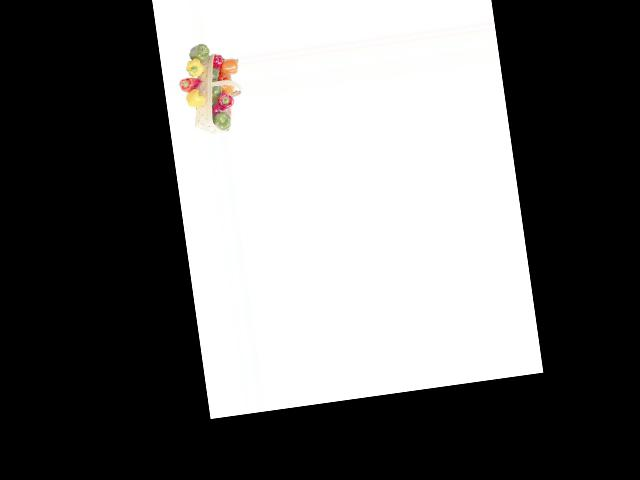bell_pepper: (213, 109, 232, 131)
